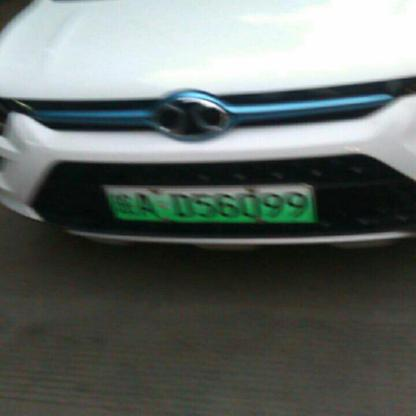lp: (101, 184, 318, 221)
